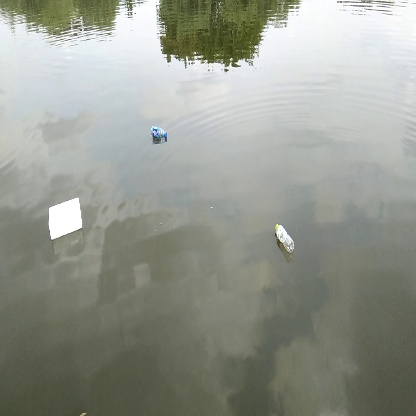bottle: (271, 222, 298, 256), (146, 123, 173, 145)
plastic-garbage: (45, 197, 86, 242)
